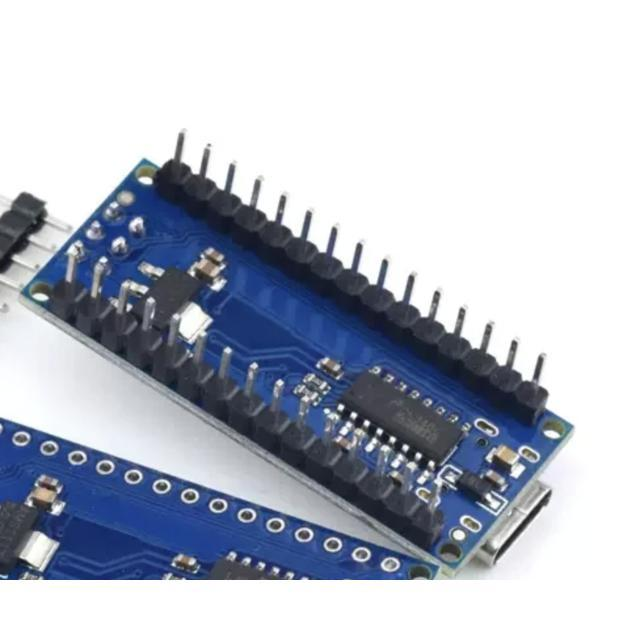Arduino-Nano: (25, 161, 572, 568)
